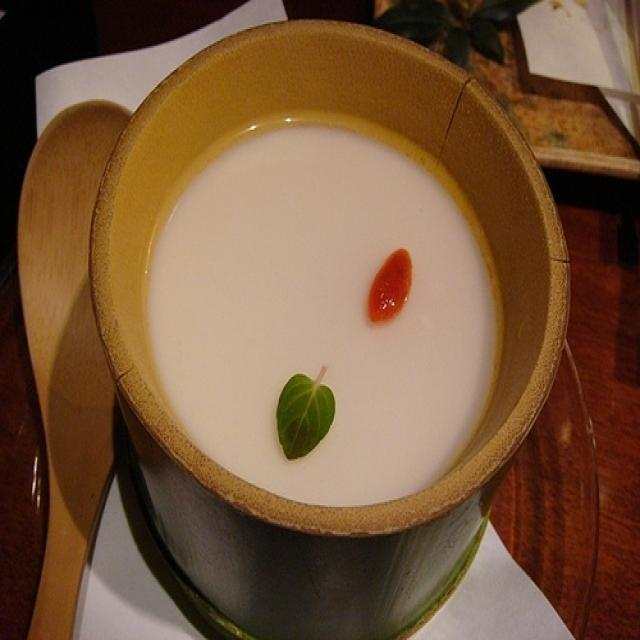熟制海鲜: (0, 34, 304, 341)
